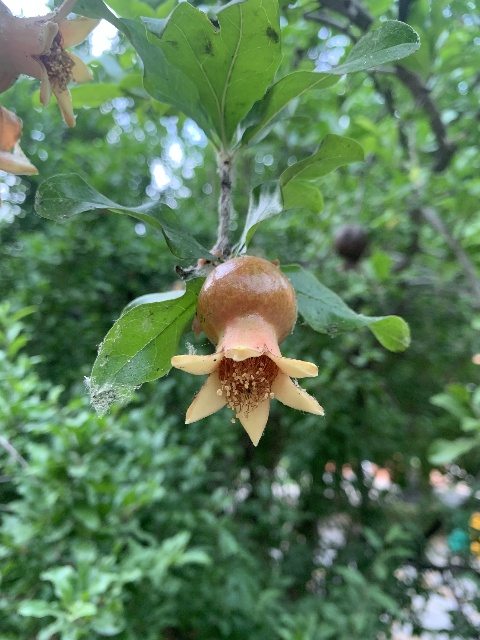early-fruit: (170, 256, 323, 447)
